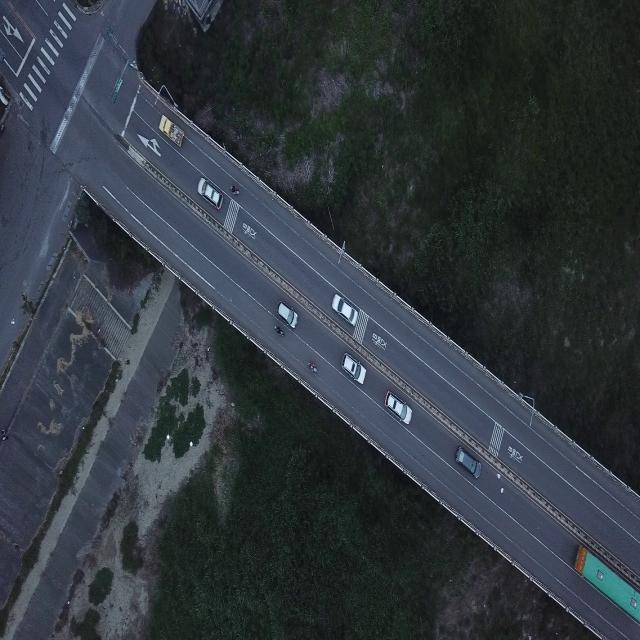vehicle: (575, 547, 640, 618), (384, 391, 412, 425), (196, 177, 224, 210), (331, 293, 358, 326), (158, 114, 184, 148), (455, 446, 482, 478), (342, 353, 366, 385), (277, 302, 298, 329), (274, 325, 284, 335), (308, 363, 318, 373), (230, 186, 240, 195)
